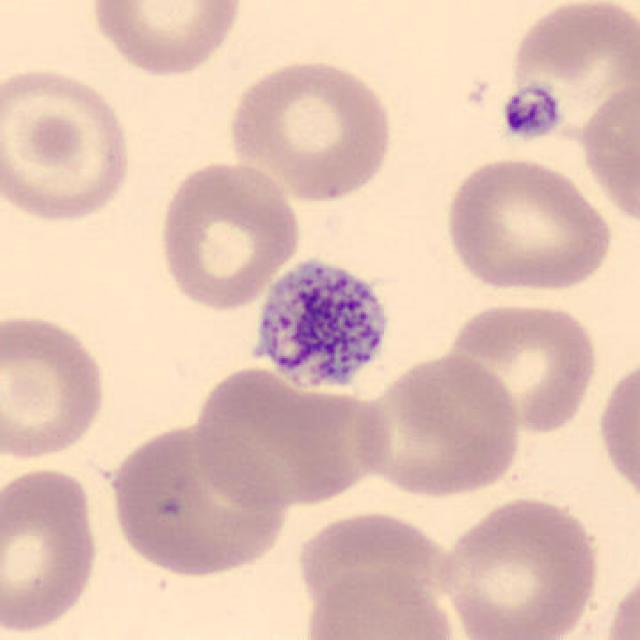Platelets: (242, 250, 398, 402), (498, 83, 565, 143)
RBC: (103, 420, 295, 580), (185, 361, 377, 513), (350, 349, 526, 501), (222, 54, 398, 204), (439, 154, 617, 296), (436, 492, 604, 640), (153, 157, 304, 312), (441, 296, 601, 437), (0, 62, 137, 225), (292, 504, 458, 626), (502, 0, 638, 145), (0, 462, 103, 638), (0, 308, 110, 464), (85, 0, 247, 79), (298, 564, 461, 640), (576, 74, 638, 231), (594, 351, 638, 516), (601, 560, 640, 640)
